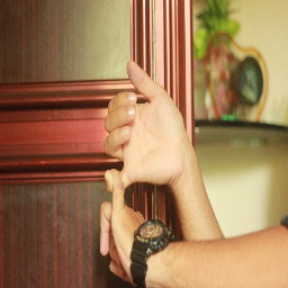S: (92, 60, 189, 285)
